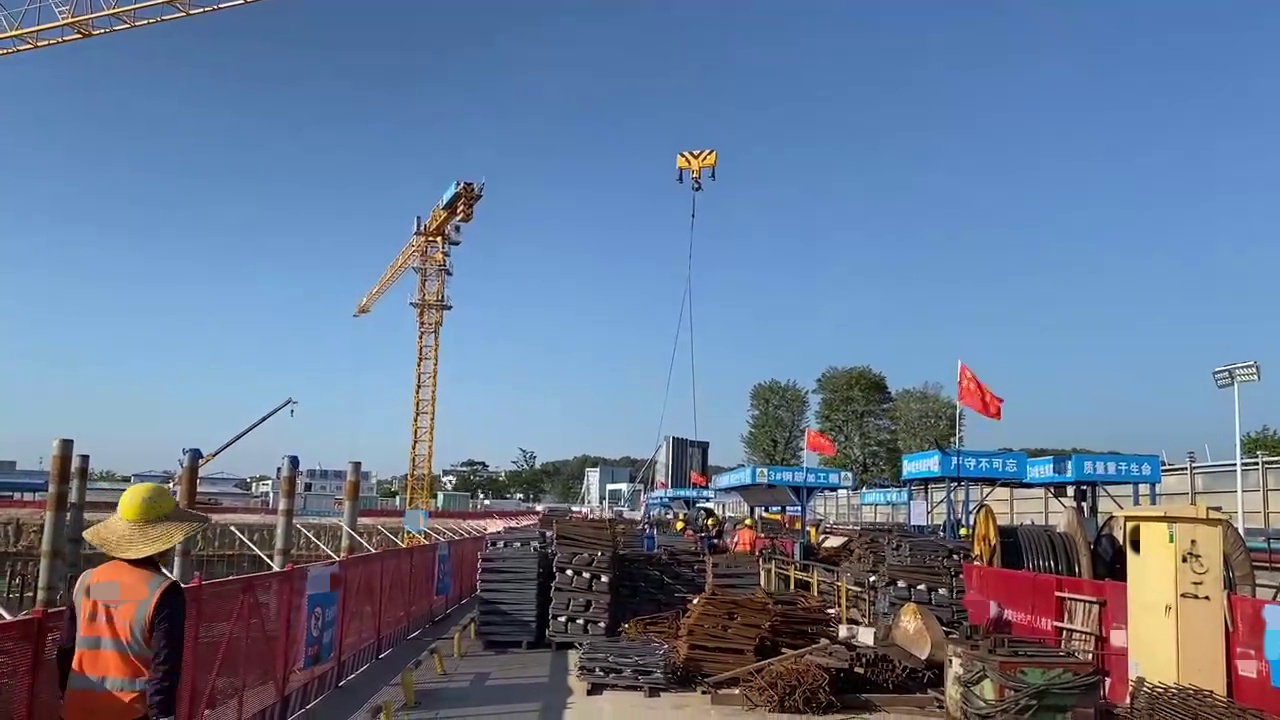ebox: (1115, 505, 1228, 690)
fence: (228, 520, 468, 720)
helmet: (115, 484, 186, 518), (675, 520, 684, 529)
hook: (674, 145, 722, 182)
person: (71, 482, 216, 720), (733, 515, 757, 550)
rebar: (543, 516, 619, 659), (476, 538, 556, 645), (684, 591, 761, 691), (845, 534, 906, 635), (1133, 675, 1263, 720), (749, 653, 830, 720), (844, 650, 932, 693)
slogan: (1082, 451, 1160, 478), (944, 454, 1024, 475), (1004, 606, 1050, 632)
vest: (75, 560, 183, 720), (735, 529, 758, 554)
